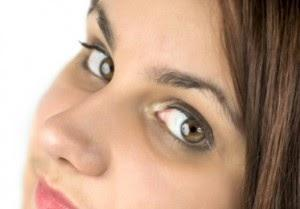Eyebags: (133, 88, 216, 174), (64, 35, 115, 95)
